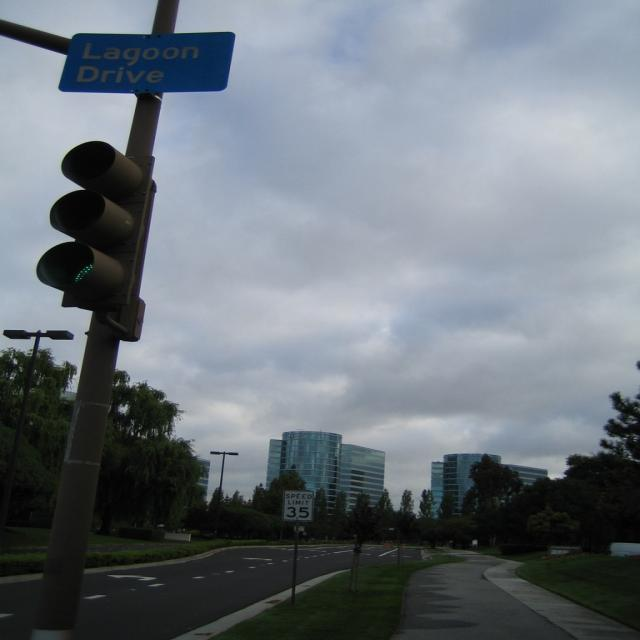traffic light: (36, 140, 154, 306)
